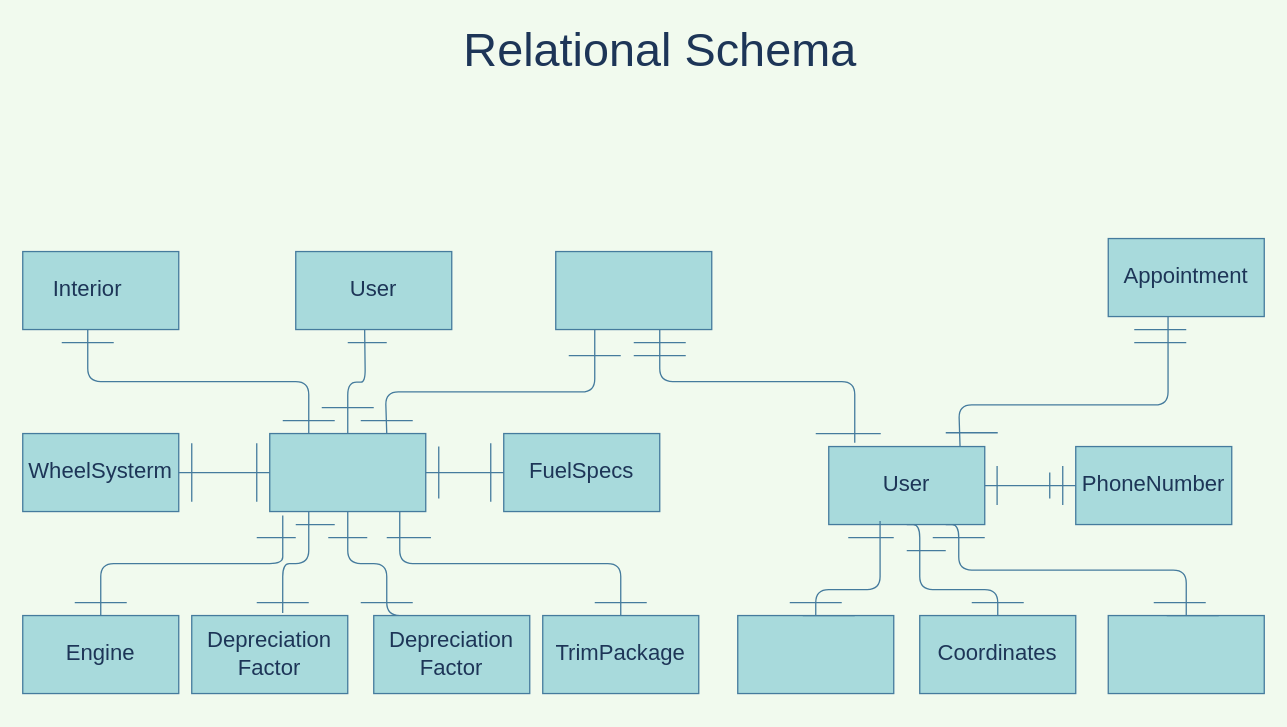
The diagram is 1287 pixels wide and 727 high, and some of its shapes have lost their labels. The shapes that lost their labels are listed below. From the top down, each one's centre as x and y in pixels, then its label:
[633,290]: Listing
[347,472]: Car
[815,654]: Address
[1185,654]: DealerDetails
